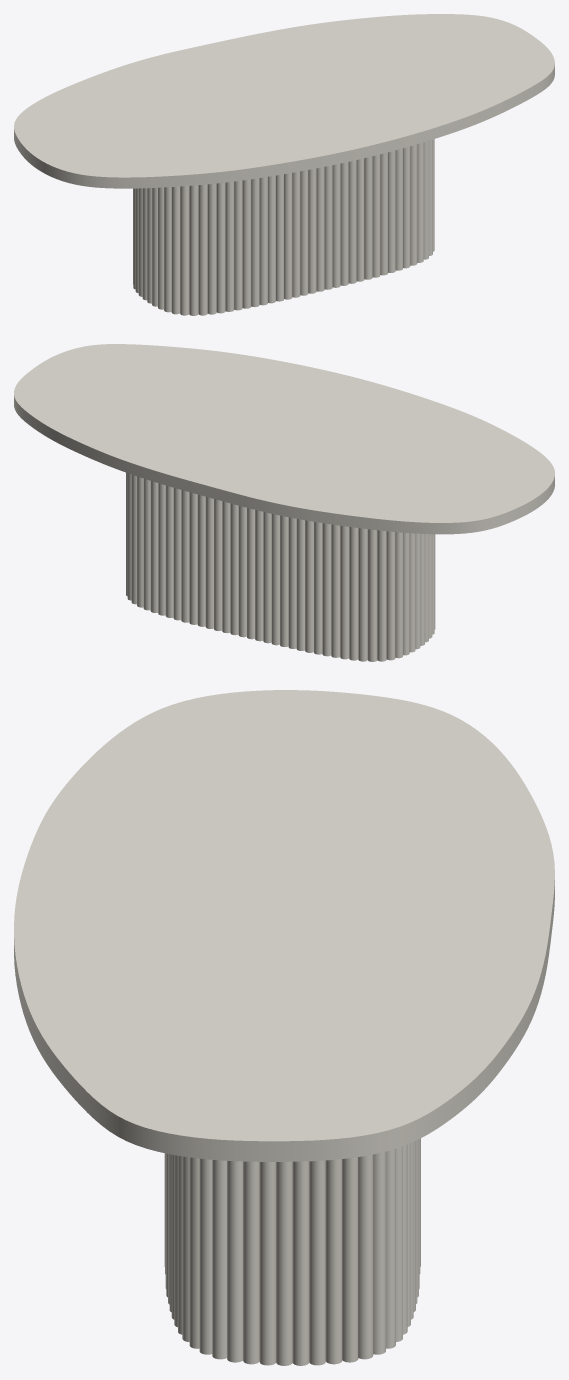
File: pale_danish_standard_newtable.glb
3 renders of one model, top to bottom at view 1: azimuth 30°, elevation 25°; view 2: azimuth 150°, elevation 25°; view 3: azimuth 270°, elevation 25°, orthographic. The views are drawn at different scales.
Parts seen in each view (by area): view 1: standard_danish, newtable; view 2: standard_danish, newtable; view 3: standard_danish, newtable.
Part boxes in pixels (x1,y1,x2,y2): standard_danish: (14, 14, 554, 188); newtable: (133, 139, 434, 315); standard_danish: (14, 344, 554, 534); newtable: (126, 472, 435, 661); standard_danish: (14, 690, 554, 1161); newtable: (164, 1138, 420, 1365).
Size of the model in its own units: 7.5 by 2.5 by 3.8.
2 materials, 2 textured.
